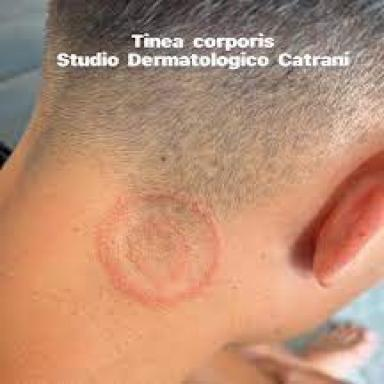Tinea-Corporis: (94, 192, 220, 312)
